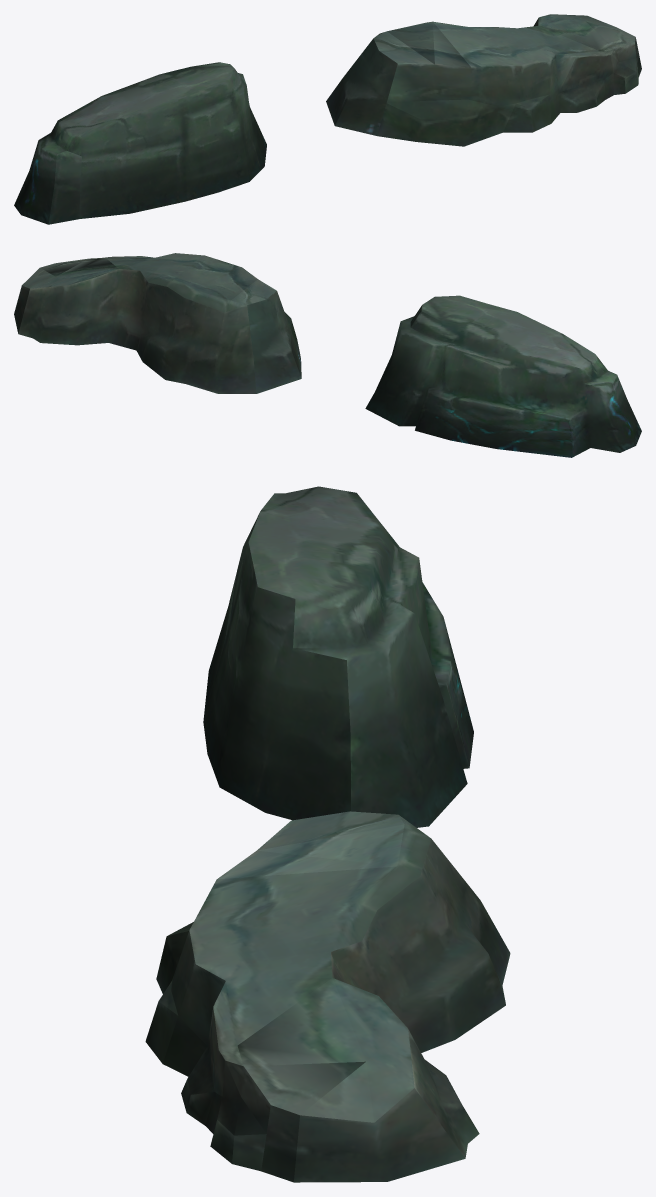
Rendered from SL_shitou01.FBX.
3 renders of one model, top to bottom at view 1: azimuth 30°, elevation 25°; view 2: azimuth 150°, elevation 25°; view 3: azimuth 270°, elevation 25°, orthographic. The views are drawn at different scales.
Parts seen in each view (by area): view 1: SL_shitou01_001, SL_shitou01_002; view 2: SL_shitou01_002, SL_shitou01_001; view 3: SL_shitou01_001, SL_shitou01_002.
Boxes of the visible parts, x1=… form: SL_shitou01_001: x1=326, y1=14, x2=641, y2=146; SL_shitou01_002: x1=14, y1=62, x2=266, y2=224; SL_shitou01_002: x1=365, y1=295, x2=641, y2=457; SL_shitou01_001: x1=14, y1=253, x2=301, y2=393; SL_shitou01_001: x1=145, y1=811, x2=510, y2=1182; SL_shitou01_002: x1=203, y1=486, x2=473, y2=827.
Bounding box in the file's own units: 1451 × 224 × 380.
